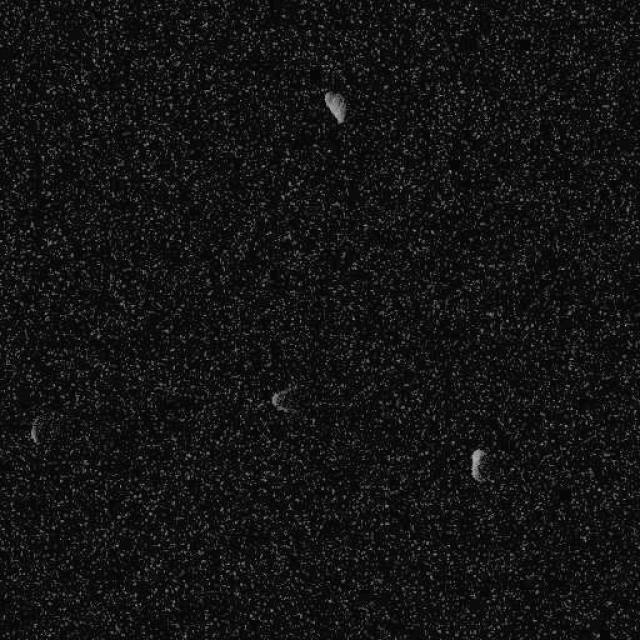D2: (322, 88, 347, 124), (270, 385, 300, 415), (469, 447, 486, 482), (29, 418, 40, 443)
